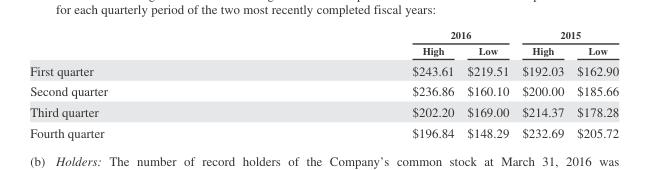table: (29, 28, 618, 139)
table column: (29, 28, 259, 139), (259, 28, 460, 139), (514, 28, 569, 139), (460, 28, 514, 139), (569, 28, 618, 139)
table column header: (29, 28, 618, 59)
table row: (29, 59, 618, 80), (29, 80, 618, 101), (29, 101, 618, 121), (29, 121, 618, 139), (29, 42, 618, 59), (29, 28, 618, 42)
table spanning cell: (259, 28, 514, 42), (514, 28, 618, 42)
